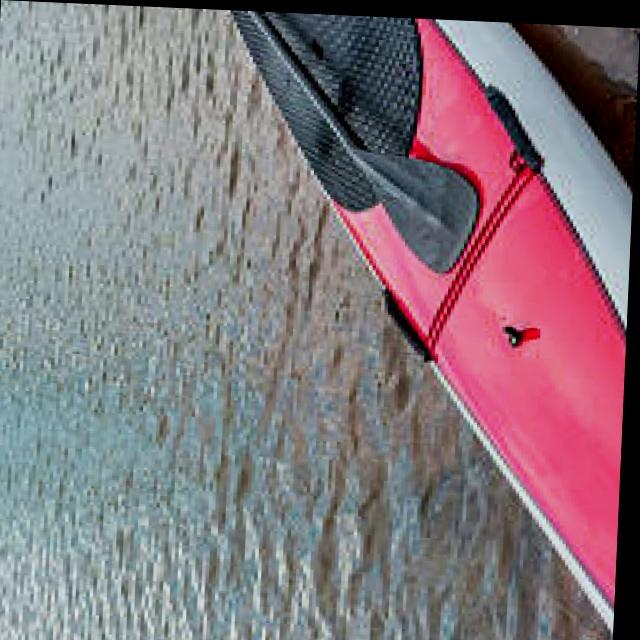kayak: (227, 8, 634, 634)
